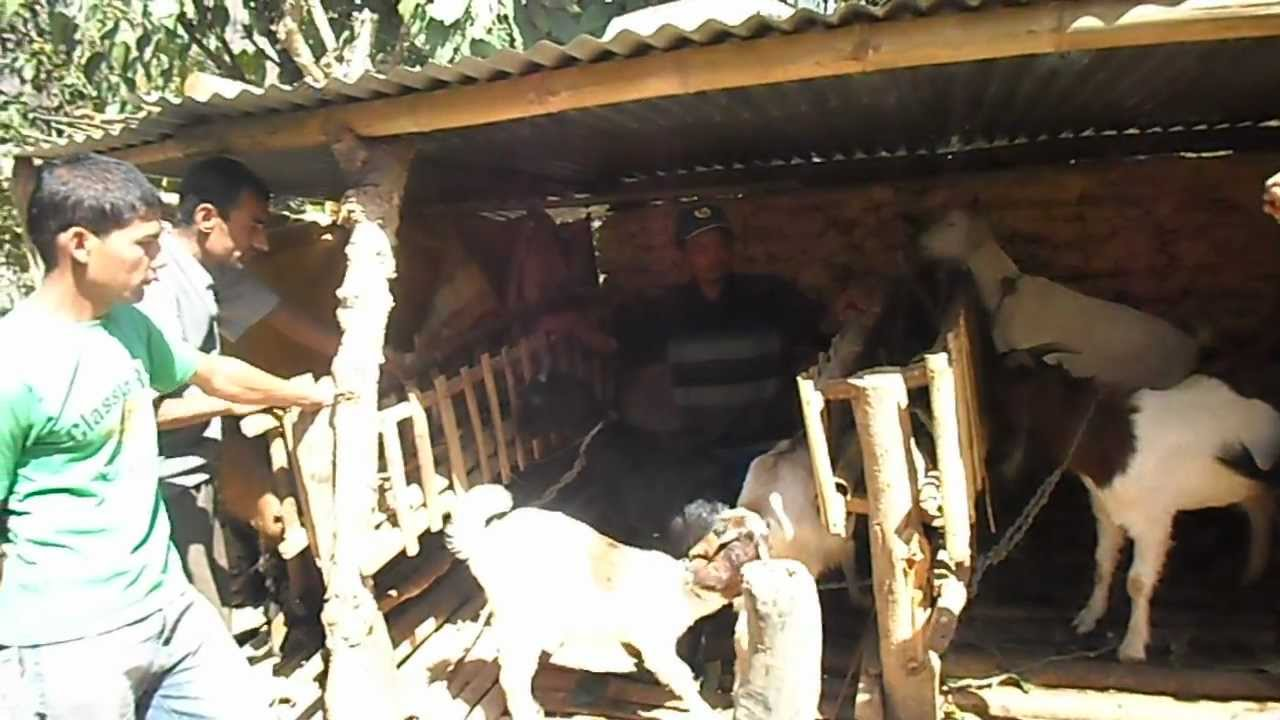human: (3, 150, 281, 720), (626, 200, 862, 475), (121, 147, 279, 409)
